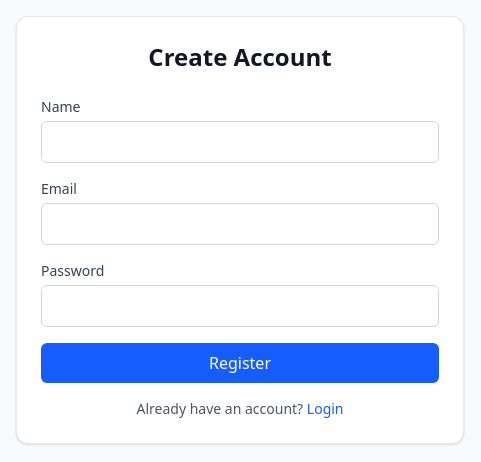
it: RegisterPage › loading state › shows "Creating account..." and disables the button while pending
Type "Test User" into the field below "Name". click: point(240, 142)
box: 41,121 -> 439,163
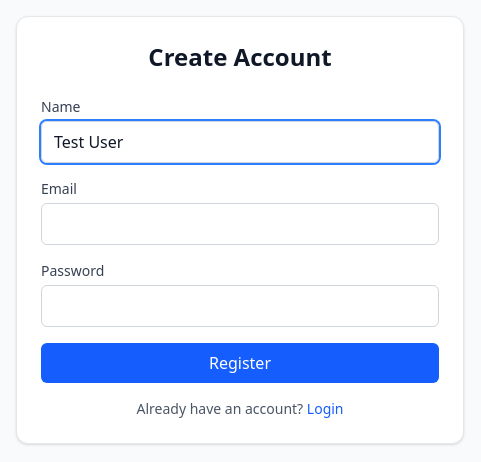
Type "test@example.com" into the field below "Email". click: point(240, 224)
box: 41,203 -> 439,245
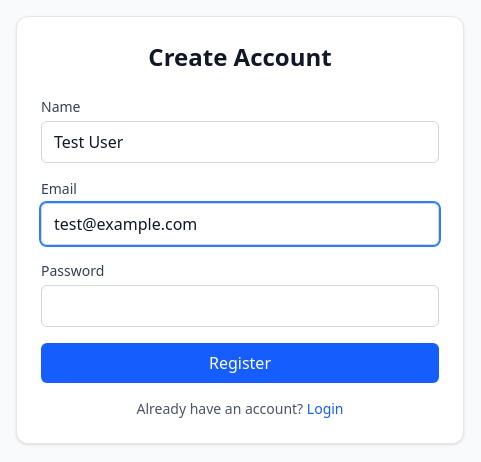
Type "secret123" into the password field. click: point(240, 306)
box: 41,285 -> 439,327
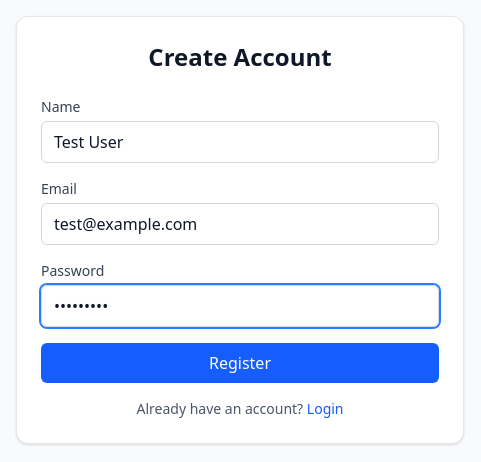
Click the button "Register". click: point(240, 363)
box: 41,343 -> 439,383
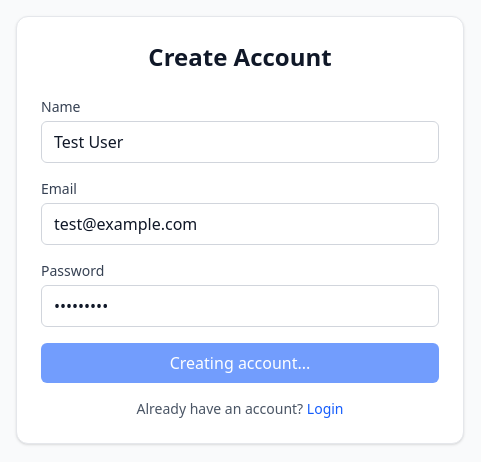
Result: the button "Creating account..." is disabled at 41,343 -> 439,383
